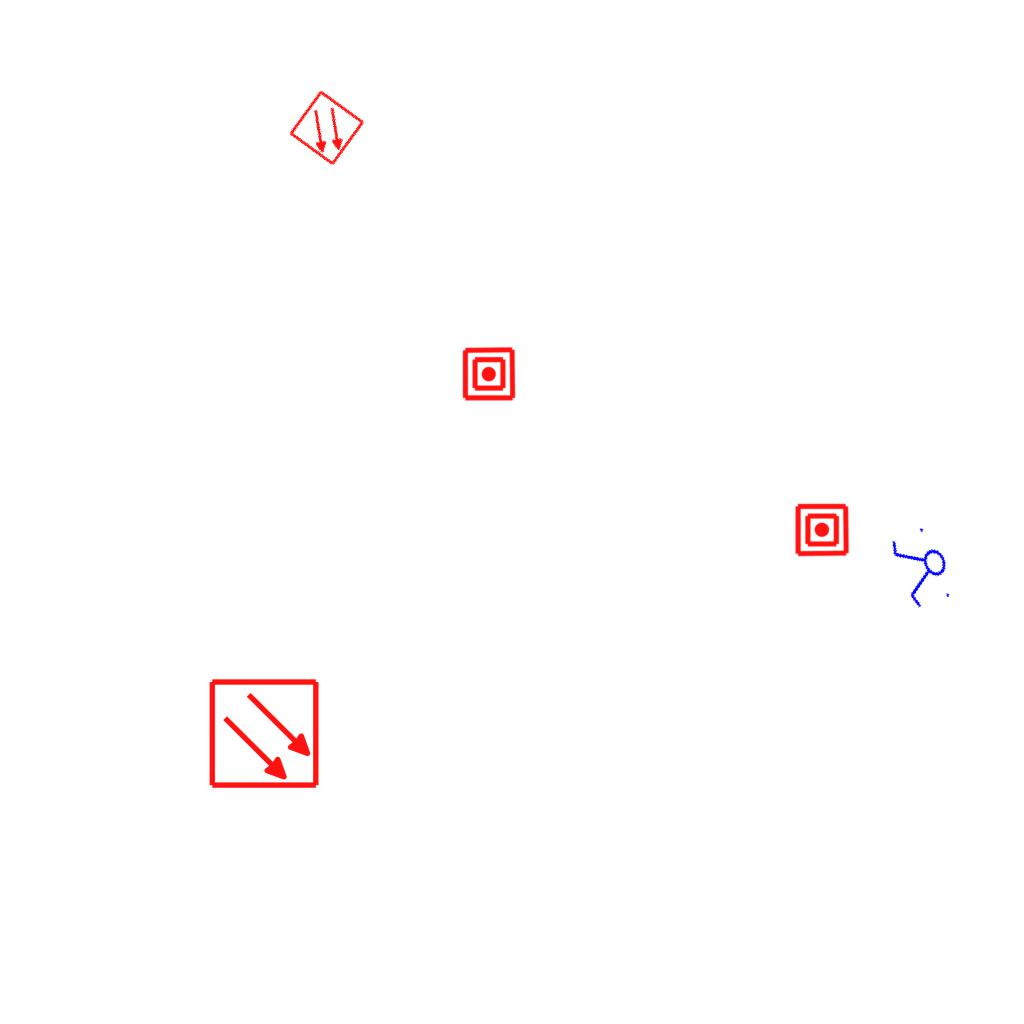NAM-Nichtautomatischer_Melder: (461, 346, 517, 402), (794, 502, 850, 558)
RMO_Rauchmelder_optischer: (208, 677, 321, 790), (287, 88, 367, 168)
Serienschalter: (885, 520, 961, 616)
